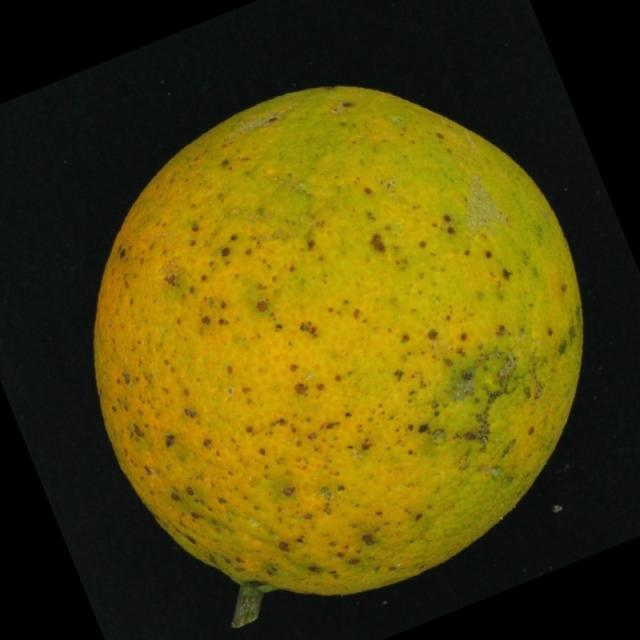grenning: (88, 74, 594, 629)
